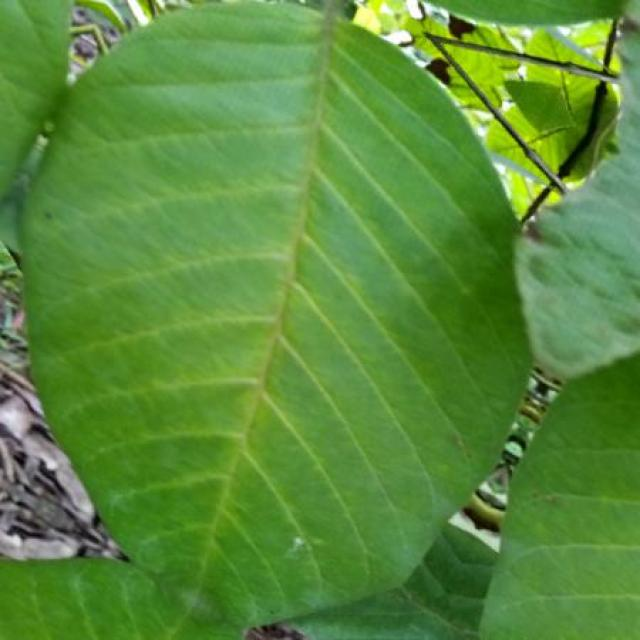Disease Free: (24, 5, 529, 626), (480, 354, 640, 640), (0, 562, 241, 640), (602, 30, 640, 171)
